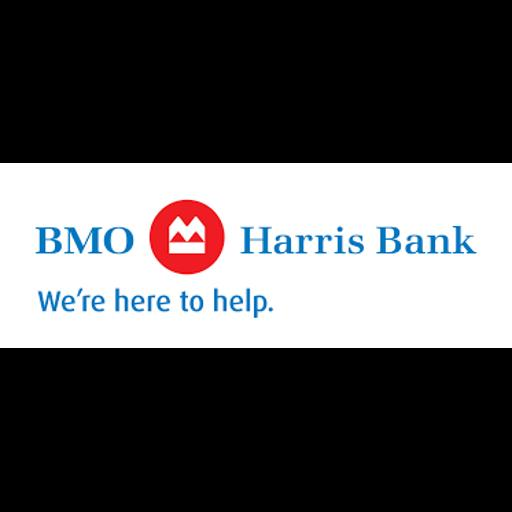Bank of Montreal: (0, 163, 512, 348)
